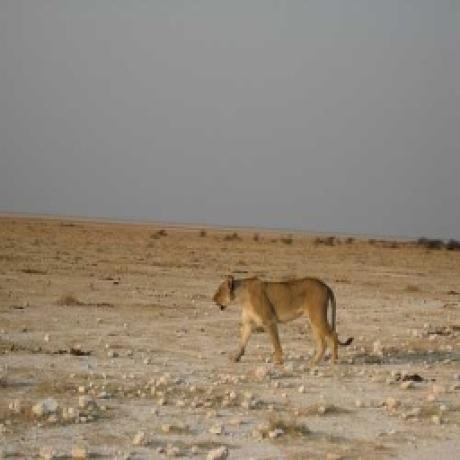Lion: (214, 267, 360, 365)
